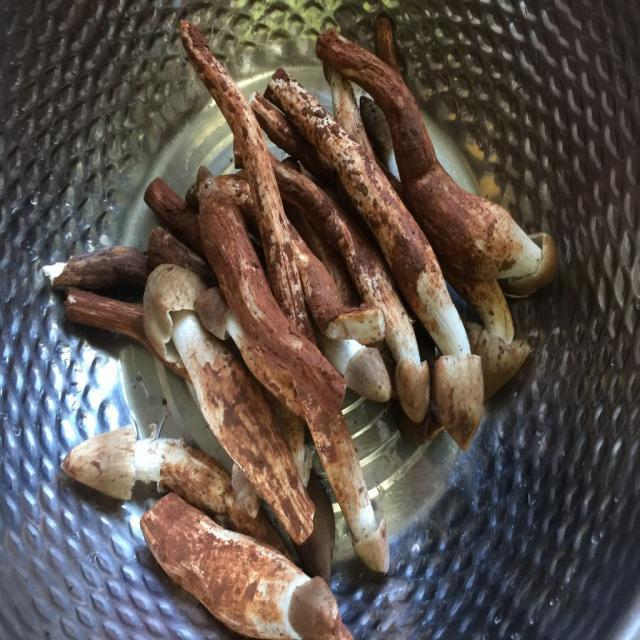Collybia albuminosa: (146, 263, 316, 534), (63, 424, 232, 522), (425, 171, 547, 291), (324, 444, 394, 573), (430, 290, 483, 446), (462, 292, 537, 384), (387, 318, 430, 428)
